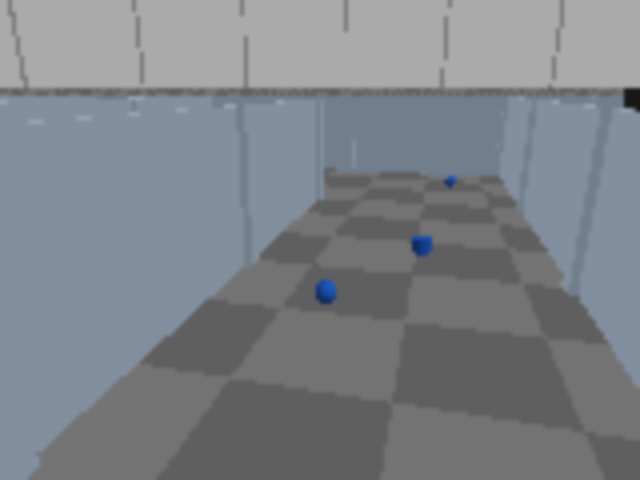puck: (310, 275, 343, 310), (413, 235, 430, 254)
